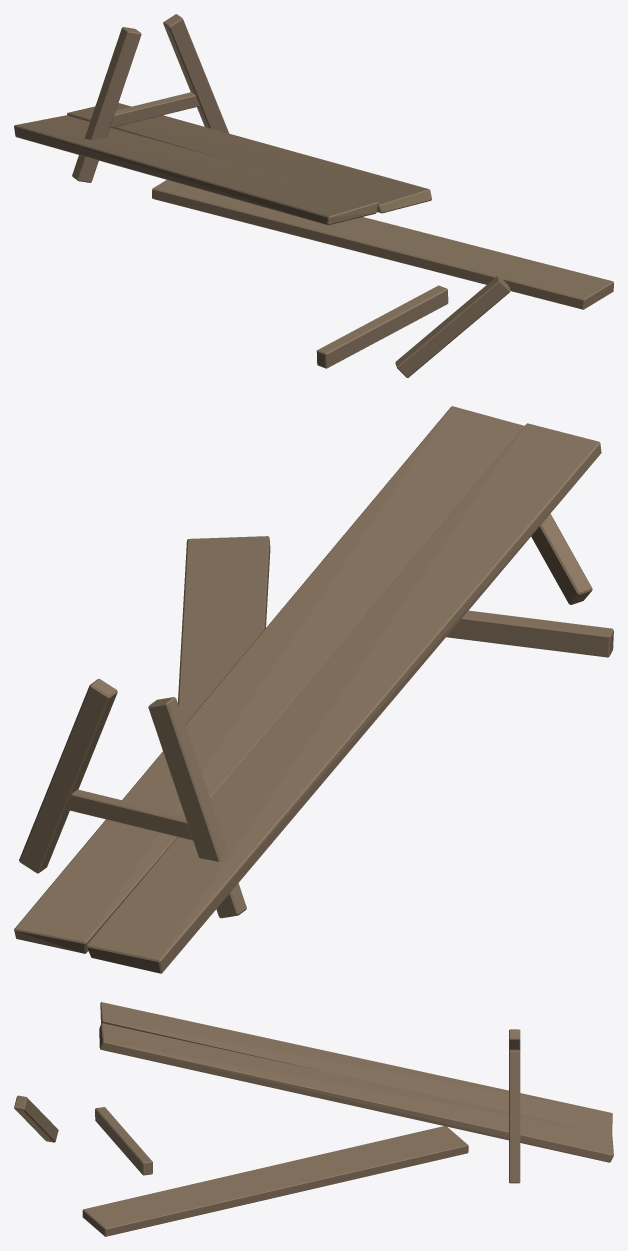
Rendered from table_broken.glb.
3 renders of one model, top to bottom at view 1: azimuth 30°, elevation 25°; view 2: azimuth 150°, elevation 25°; view 3: azimuth 270°, elevation 25°, orthographic. The views are drawn at different scales.
Visible parts, largest first — view 1: wood; view 2: wood; view 3: wood.
Boxes of the visible parts, left/top/right/bottom form: wood: left=14, top=14, right=613, bottom=377; wood: left=14, top=406, right=613, bottom=973; wood: left=14, top=1002, right=613, bottom=1236.
Bounding box in the file's own units: 1.77 × 0.8699 × 3.76.
